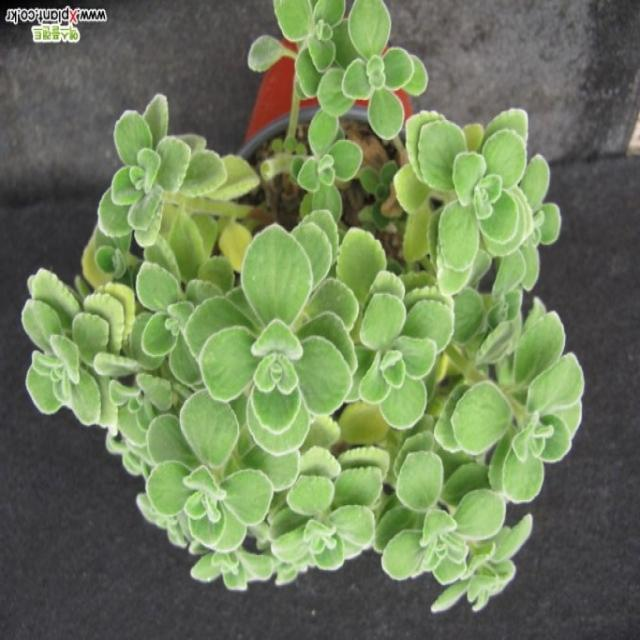Vicks: (184, 213, 359, 455), (435, 305, 582, 503), (394, 110, 532, 295), (146, 390, 299, 552), (336, 229, 454, 430), (99, 95, 228, 246), (375, 434, 505, 583), (22, 271, 135, 427), (318, 2, 428, 138), (269, 447, 390, 570), (291, 111, 362, 221), (191, 547, 275, 590)
